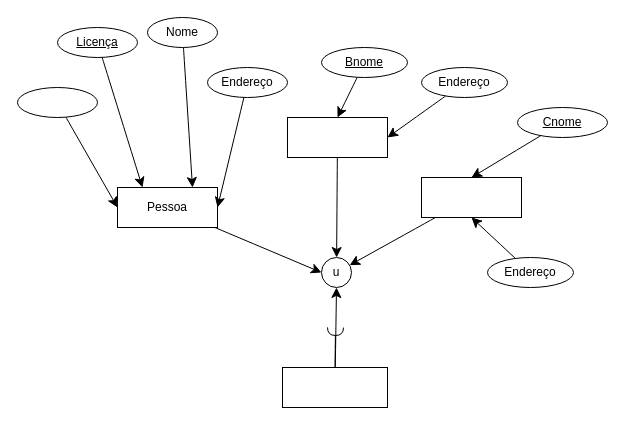
The diagram is 625 pixels wide and 425 high, and some of its shapes have lost their labels. Here are the shapes that lost their labels. From the top down, the centre of each, then its label:
point 57,102: CPF
point 337,137: Banco
point 471,197: Company
point 335,387: Owner
